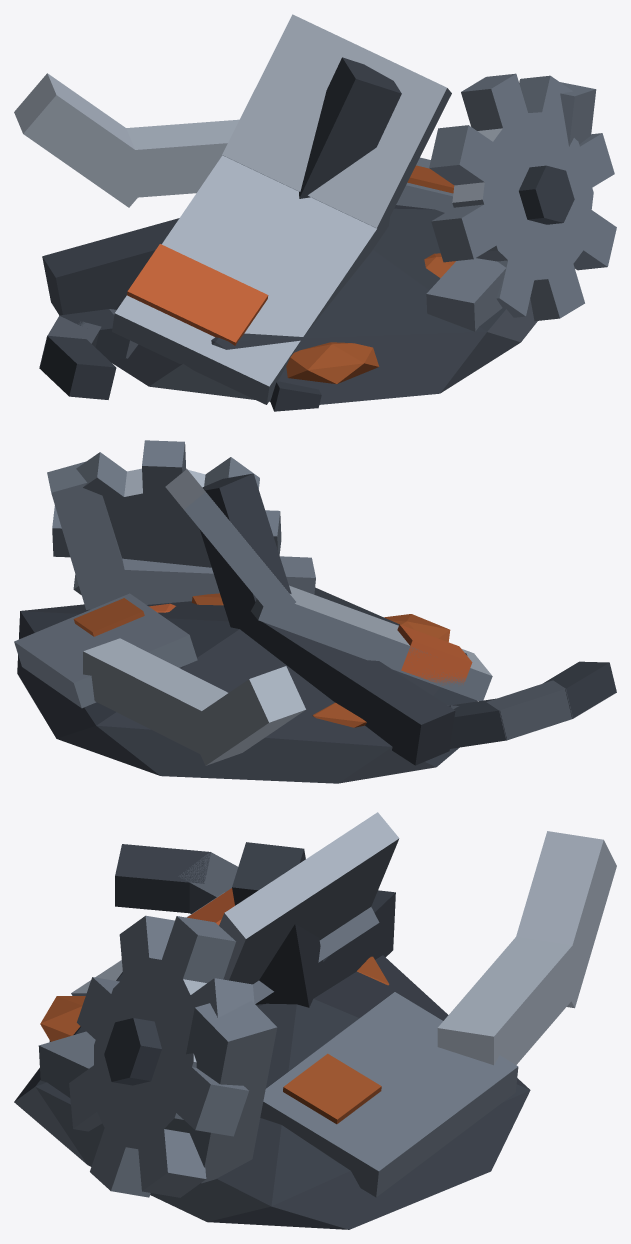
Rendered from Res_Scrap.fbx.
3 views of the same model, one above another, from view 1: azimuth 30°, elevation 25°; view 2: azimuth 150°, elevation 25°; view 3: azimuth 270°, elevation 25° (orthographic). The views are drawn at different scales.
Visible parts, largest first — view 1: Res_Scrap; view 2: Res_Scrap; view 3: Res_Scrap.
Part boxes in pixels (box(x1,y1,x2,y2)): Res_Scrap: box(14, 14, 616, 411); Res_Scrap: box(14, 440, 616, 783); Res_Scrap: box(14, 812, 616, 1229).
Size of the model in its own units: 0.7679 by 0.3266 by 0.6017.
